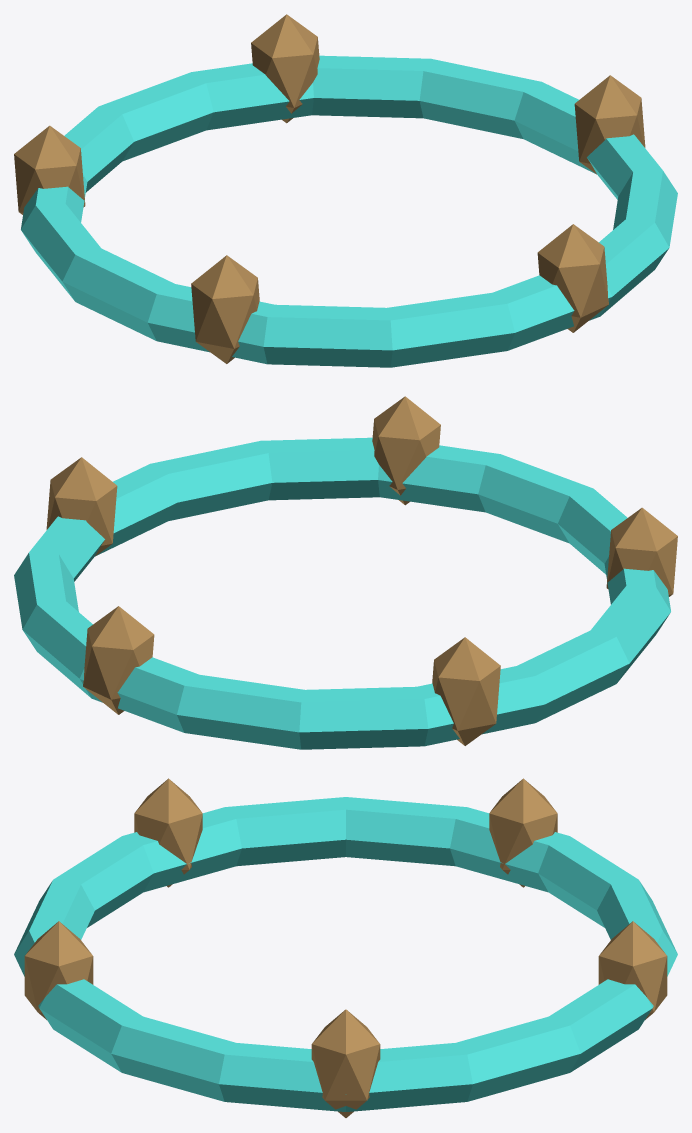
The model's file is SH10_Pentagram.fbx.
3 views of the same model, one above another, from view 1: azimuth 30°, elevation 25°; view 2: azimuth 150°, elevation 25°; view 3: azimuth 270°, elevation 25° (orthographic).
Parts seen in each view (by area): view 1: SH10_Pentagram; view 2: SH10_Pentagram; view 3: SH10_Pentagram.
Part boxes in pixels (x1,y1,x2,y2): SH10_Pentagram: [14, 14, 677, 367]; SH10_Pentagram: [14, 396, 677, 749]; SH10_Pentagram: [14, 778, 677, 1117].
Bounding box in the file's own units: 133 × 24 × 132.
